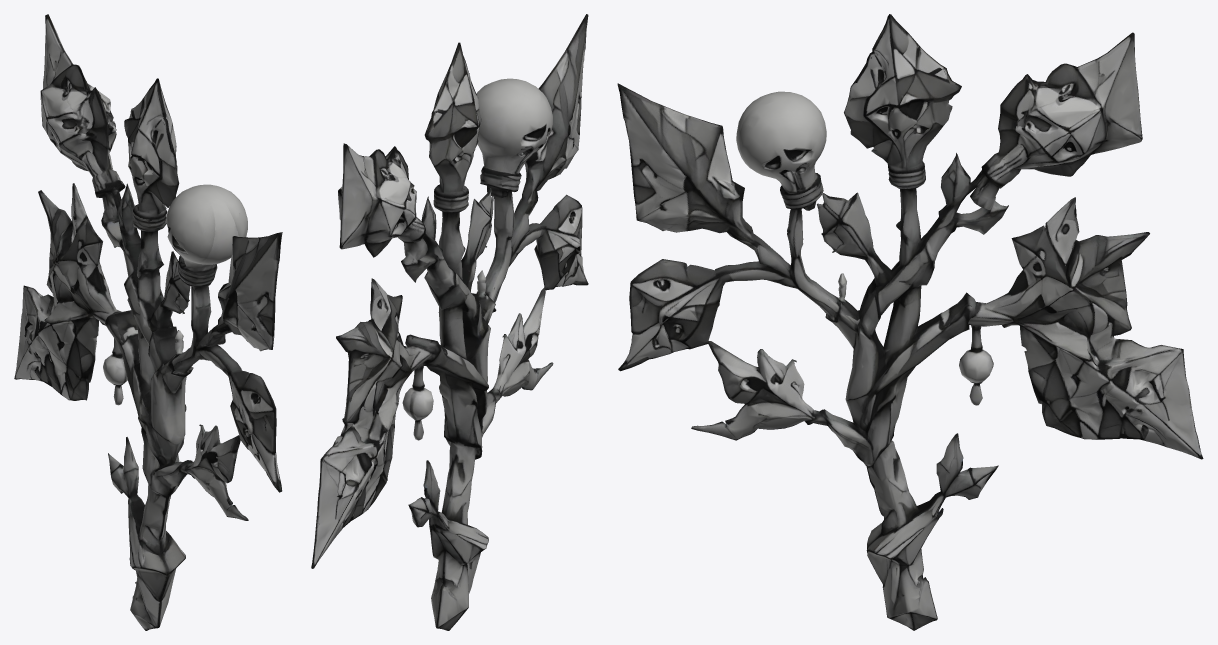
Rendered from crystal+tree+3d+model+1k.glb.
3 renders of one model, left to right at view 1: azimuth 30°, elevation 25°; view 2: azimuth 150°, elevation 25°; view 3: azimuth 270°, elevation 25°, orthographic. The views are drawn at different scales.
Visible parts, largest first — view 1: tripo_node_941159a9-b19d-4c69-87d0-90e855ae3625; view 2: tripo_node_941159a9-b19d-4c69-87d0-90e855ae3625; view 3: tripo_node_941159a9-b19d-4c69-87d0-90e855ae3625.
Boxes of the visible parts, box(x1,y1,x2,y2) form: tripo_node_941159a9-b19d-4c69-87d0-90e855ae3625: box(14, 14, 282, 630); tripo_node_941159a9-b19d-4c69-87d0-90e855ae3625: box(311, 14, 588, 630); tripo_node_941159a9-b19d-4c69-87d0-90e855ae3625: box(617, 14, 1203, 630).
Bounding box in the file's own units: 0.134 × 1 × 0.8614.
1 material, 1 textured.
